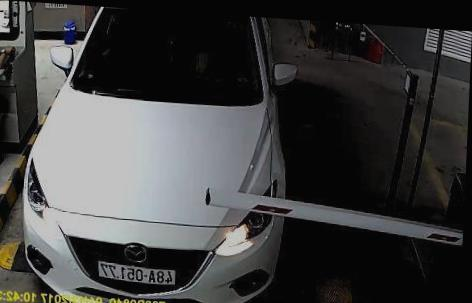License_Plate: (97, 260, 177, 286)
